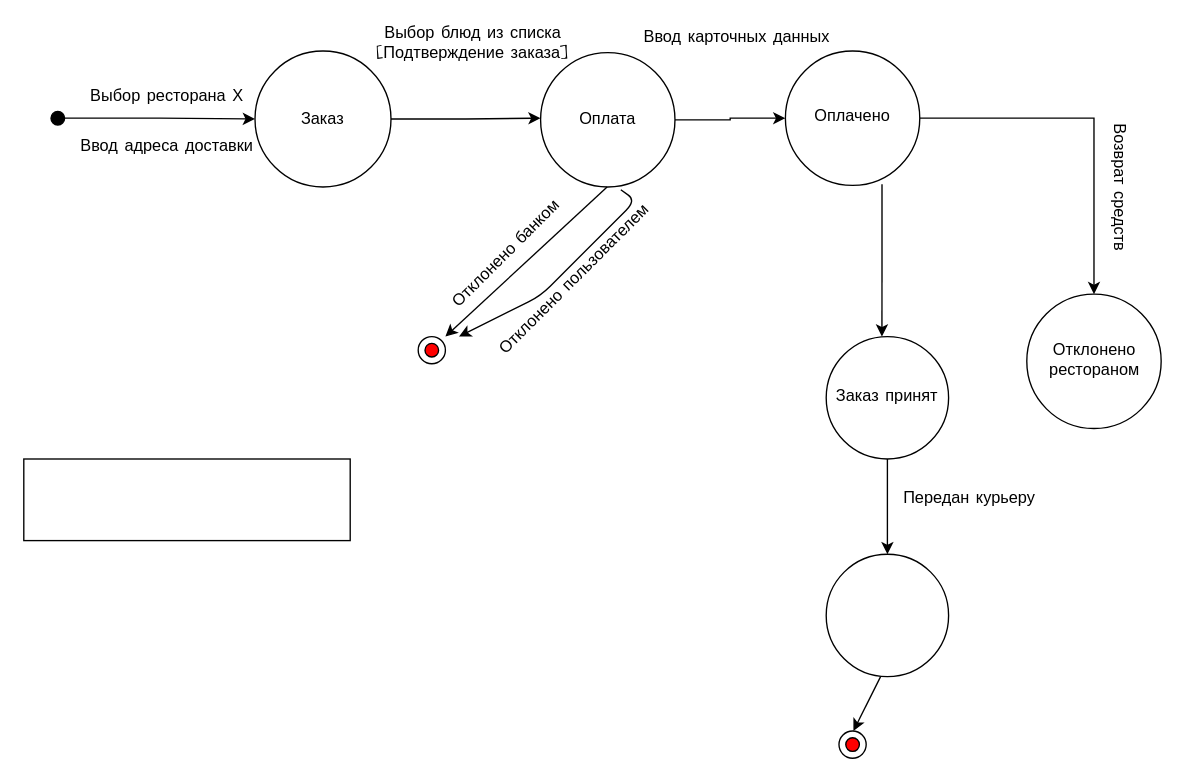
The diagram is 1186 pixels wide and 782 high, and some of its shapes have lost their labels. Each missing label, with the box of its shape:
Доставлен: (825, 553, 949, 677)
Заказ еды через приложение.: (22, 458, 350, 541)
